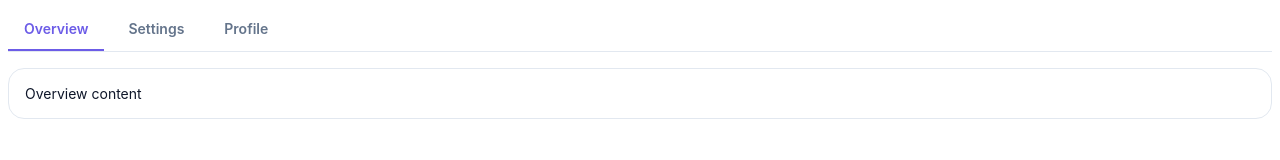
Test: Tabs › changes the active tab when clicked
Click the tab "Settings": (156, 30) [112,8,200,51]
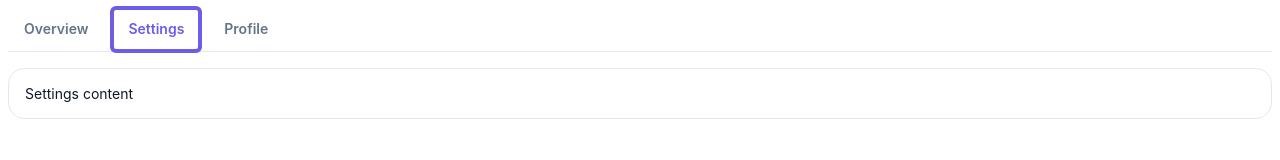
expect the panel reads "Settings content": met, box [25,85,133,102]
